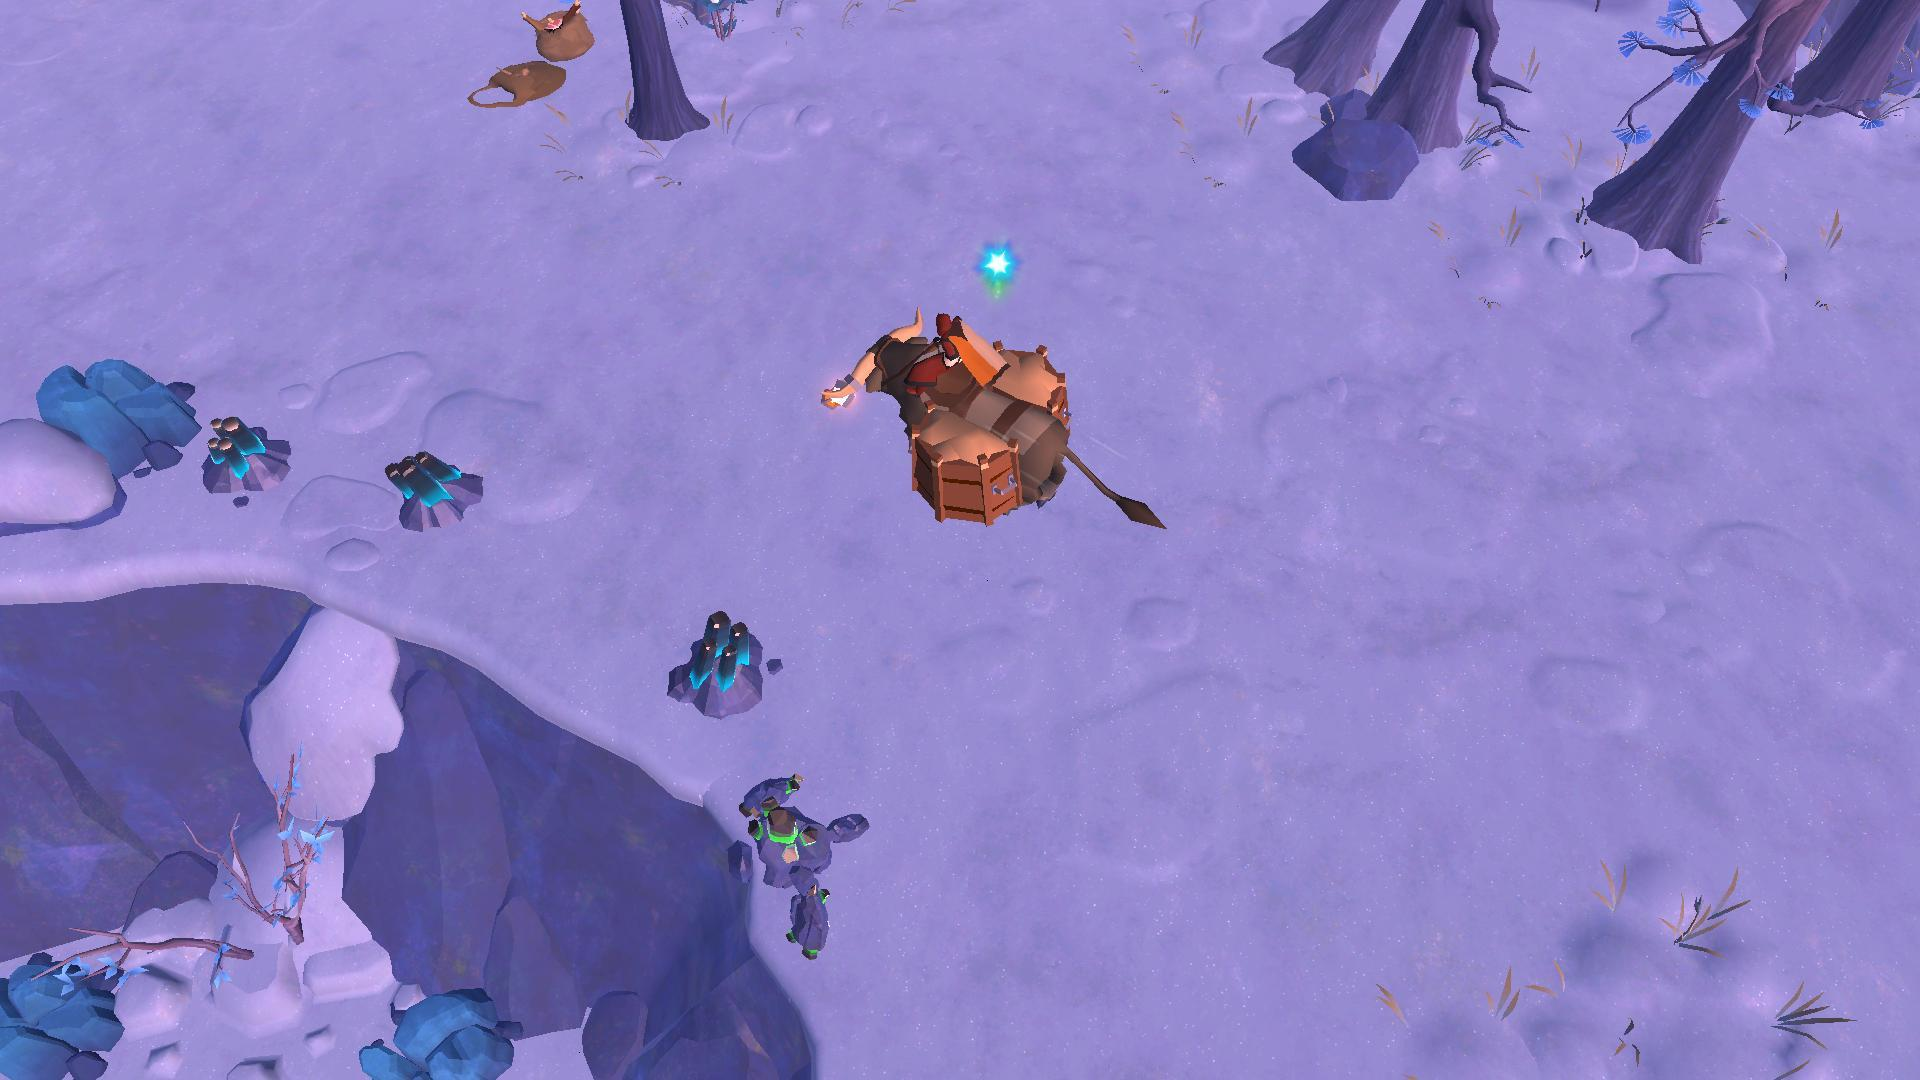ore_t4: (683, 609, 756, 696), (384, 444, 462, 512), (200, 415, 272, 484)
rock_t4: (24, 355, 199, 476), (0, 936, 113, 1080), (353, 990, 520, 1080)
